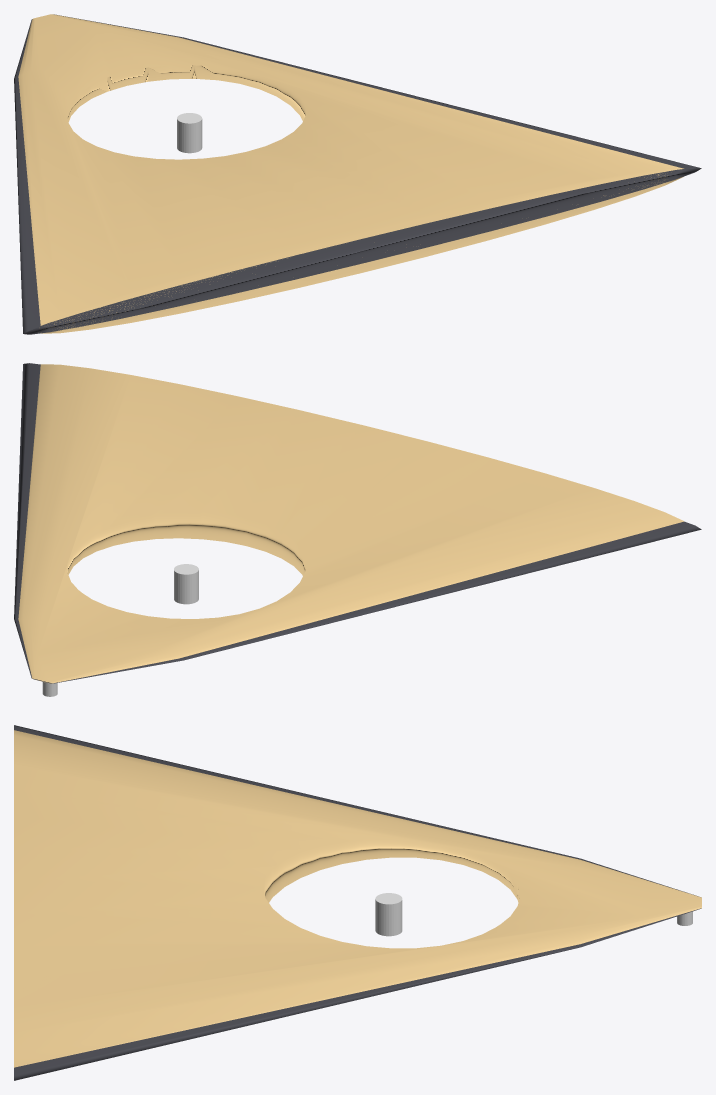
The model's file is planchette.glb.
3 views of the same model, one above another, from view 1: azimuth 30°, elevation 25°; view 2: azimuth 150°, elevation 25°; view 3: azimuth 270°, elevation 25° (orthographic). The views are drawn at different scales.
Parts seen in each view (by area): view 1: planchette, eye; view 2: planchette, eye; view 3: planchette, eye.
Part boxes in pixels (x1=…): planchette: x1=14, y1=14, x2=701, y2=334; eye: x1=177, y1=113, x2=202, y2=153; planchette: x1=14, y1=363, x2=701, y2=696; eye: x1=174, y1=564, x2=198, y2=604; planchette: x1=14, y1=725, x2=701, y2=1080; eye: x1=375, y1=893, x2=402, y2=936.
Bounding box in the file's own units: 0.492 × 0.0323 × 0.4019.
